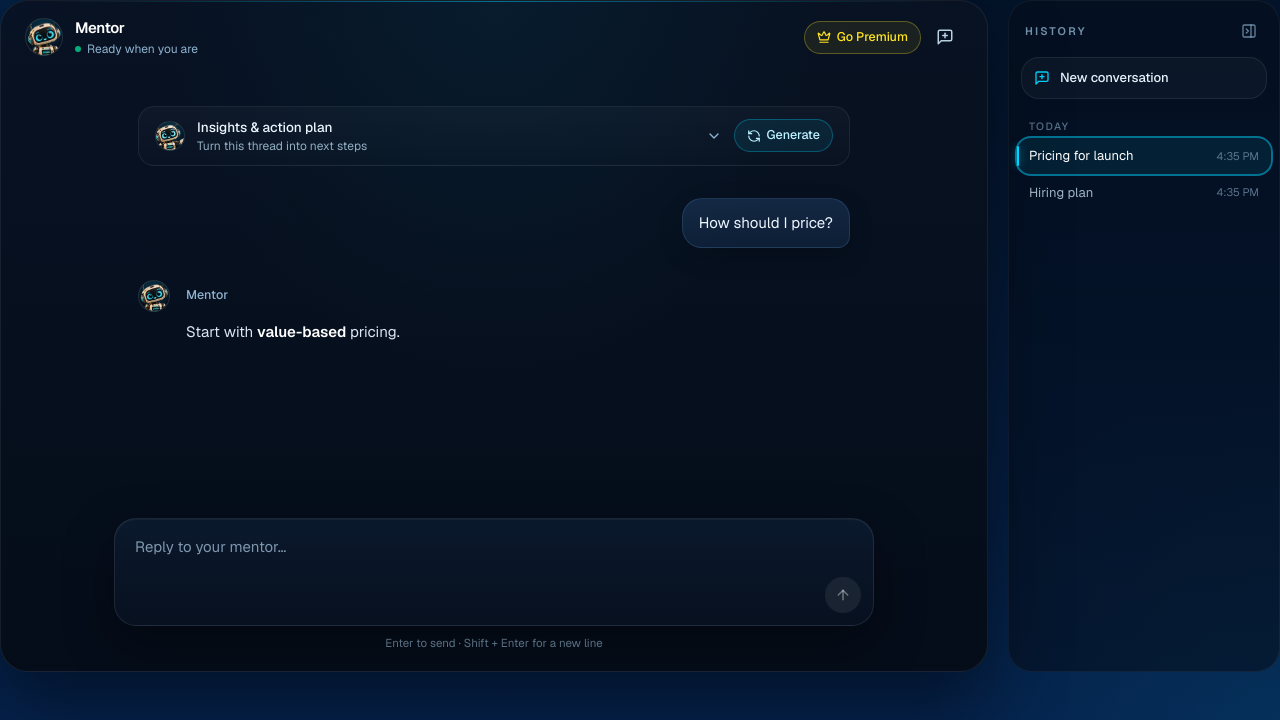
Test: MentorWorkspace › shows the not-configured message when insights generation returns 503 NOT_CONFIGURED
Earlier steps of the test are not shown.
Expected: the text "How should I price?" is shown, [682, 198, 850, 248]
Click the button "Generate" at (783, 136), box [734, 119, 833, 152]
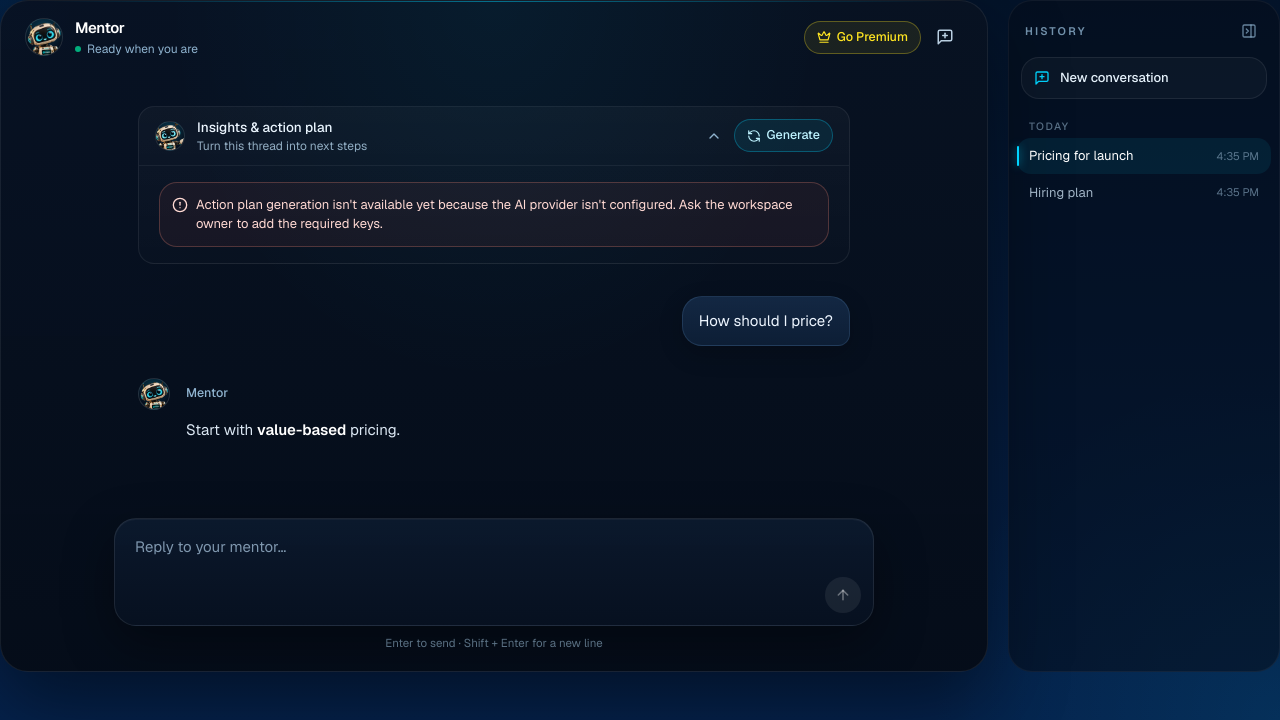
Expected: the text "AI provider isn't configured" is shown, [196, 196, 793, 232]
